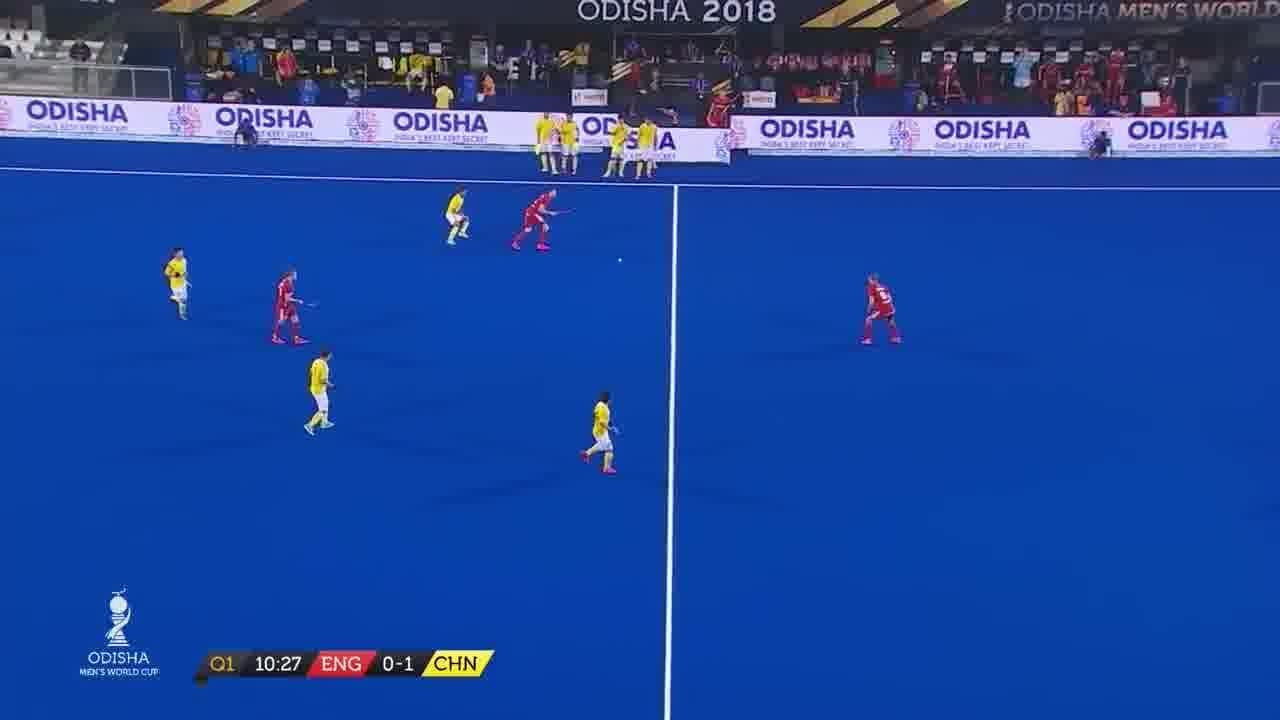ball: (610, 252, 628, 272)
